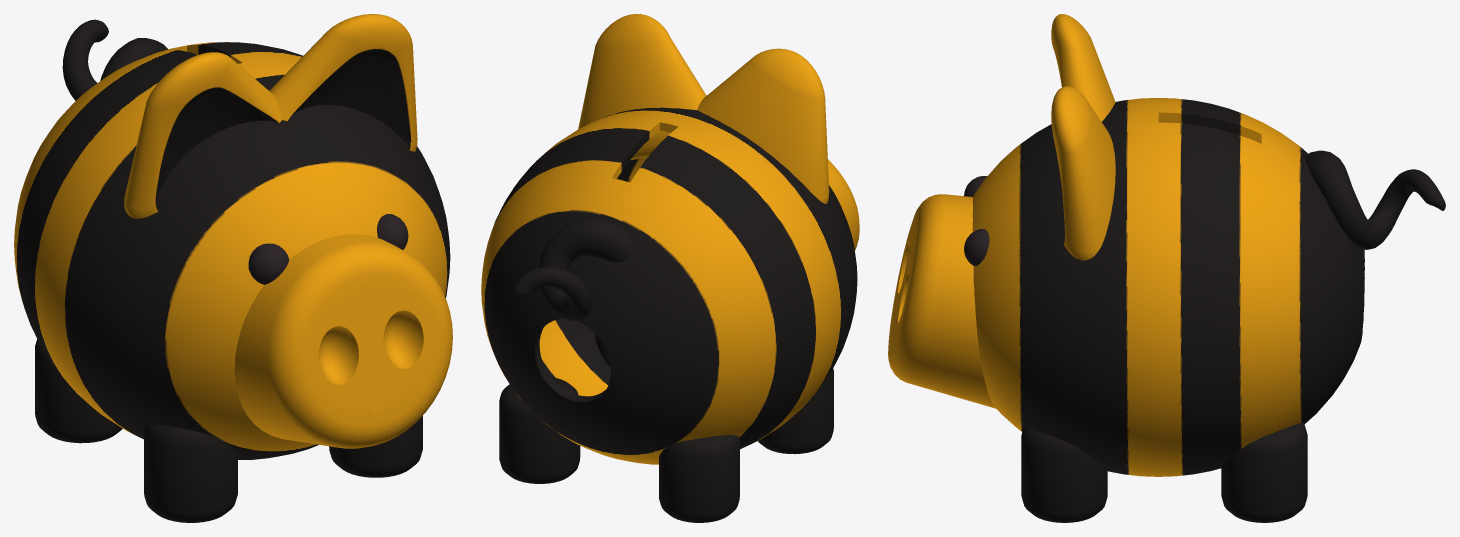
File: bee-complete.fbx
3 renders of one model, left to right at view 1: azimuth 30°, elevation 25°; view 2: azimuth 150°, elevation 25°; view 3: azimuth 270°, elevation 25°, orthographic. The views are drawn at different scales.
Visible parts, largest first — view 1: Body, Snout, Ears, Legs, Tail, Eyes; view 2: Body, Ears, Legs, Tail, Snout; view 3: Body, Snout, Legs, Ears, Tail, Eyes.
Boxes of the visible parts, bbox=[...] form: Body: bbox=[14, 42, 450, 459]; Snout: bbox=[234, 234, 452, 448]; Ears: bbox=[124, 14, 417, 218]; Legs: bbox=[35, 339, 422, 522]; Tail: bbox=[62, 19, 167, 100]; Eyes: bbox=[248, 214, 408, 284]; Body: bbox=[481, 107, 857, 464]; Ears: bbox=[578, 14, 829, 203]; Legs: bbox=[499, 334, 833, 522]; Tail: bbox=[513, 217, 634, 321]; Snout: bbox=[828, 159, 859, 250]; Body: bbox=[972, 97, 1364, 476]; Snout: bbox=[888, 194, 996, 408]; Legs: bbox=[1021, 423, 1307, 522]; Ears: bbox=[1051, 14, 1115, 260]; Tail: bbox=[1305, 150, 1445, 249]; Eyes: bbox=[964, 176, 989, 265].
Bounding box in the file's own units: 1200 × 1397 × 1708.
3 materials, 2 textured.
